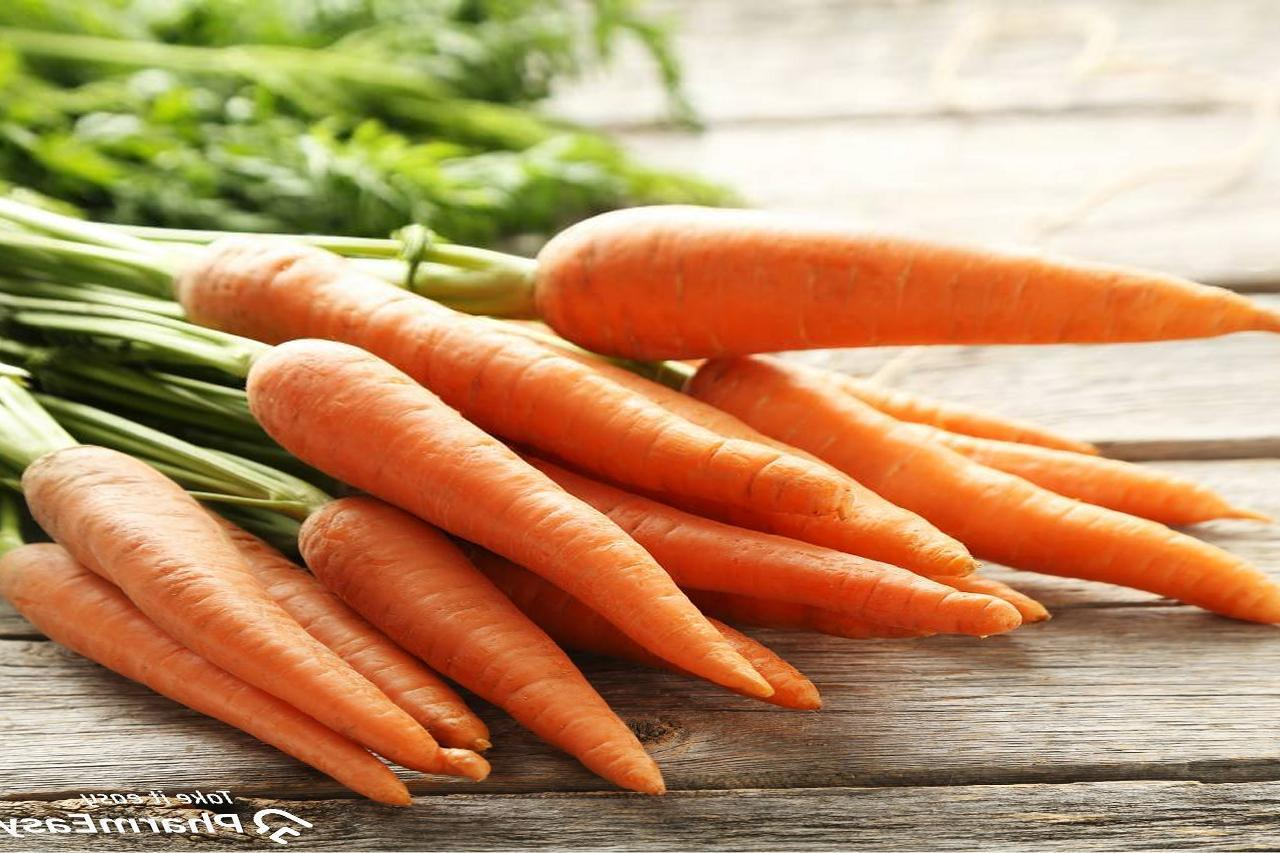carrot: (0, 238, 1101, 778), (429, 148, 1280, 390)
